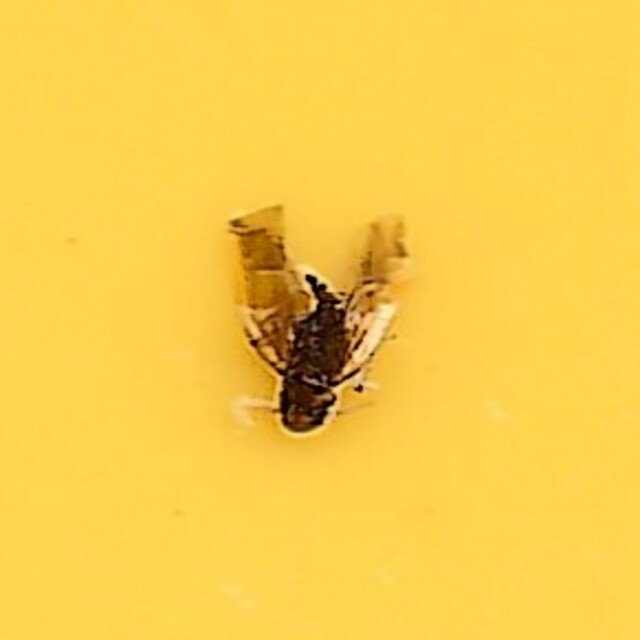Hemiptera: (220, 198, 420, 442)
